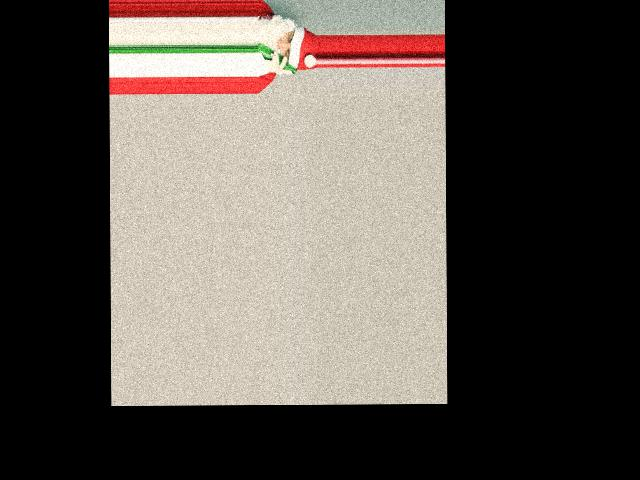beer: (257, 44, 296, 75)
